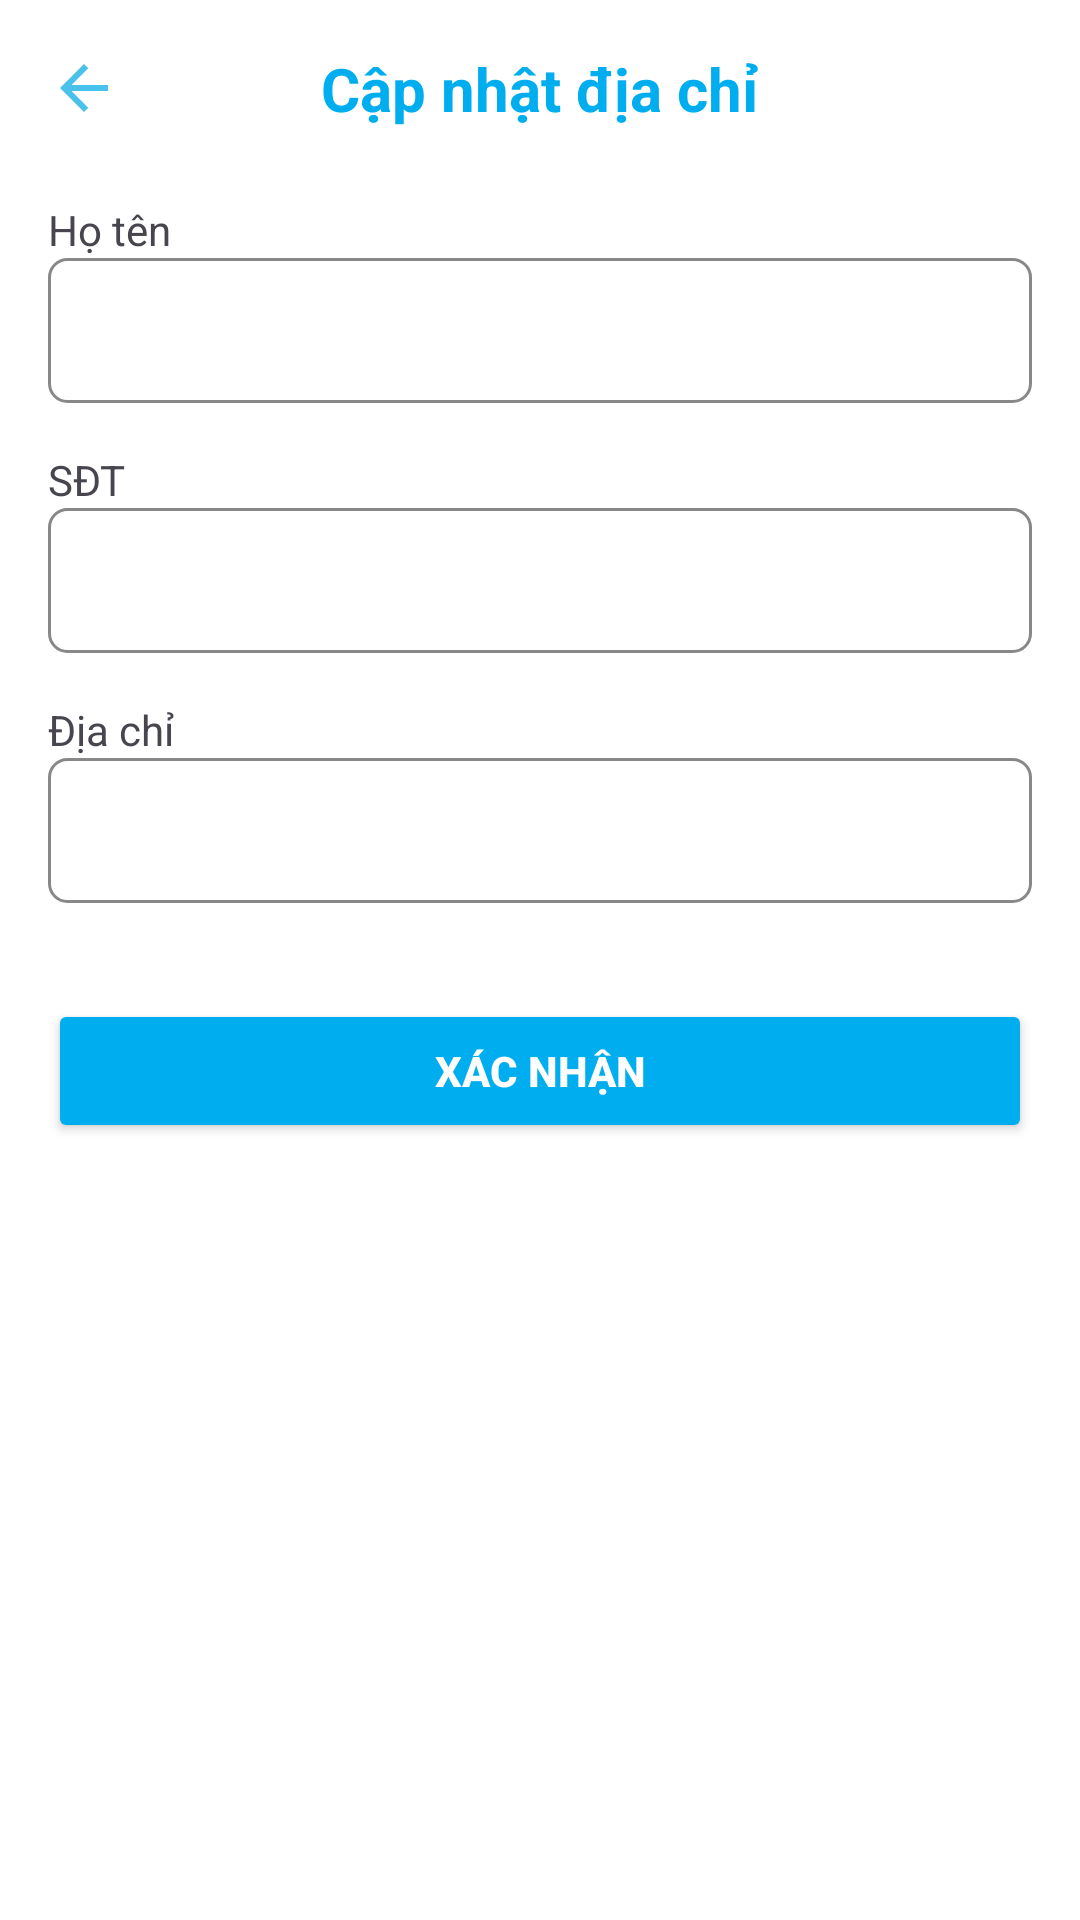

Screen size 1080x1920. Icon name, then its box in pixels as rect(x1, y1, x2, y2):
Back: rect(60, 64, 108, 112)
